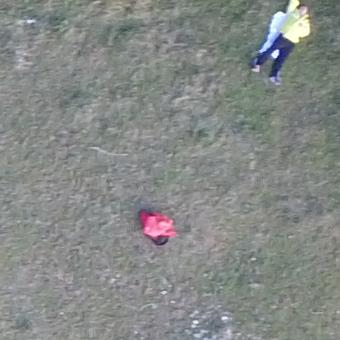human: (252, 1, 311, 85)
